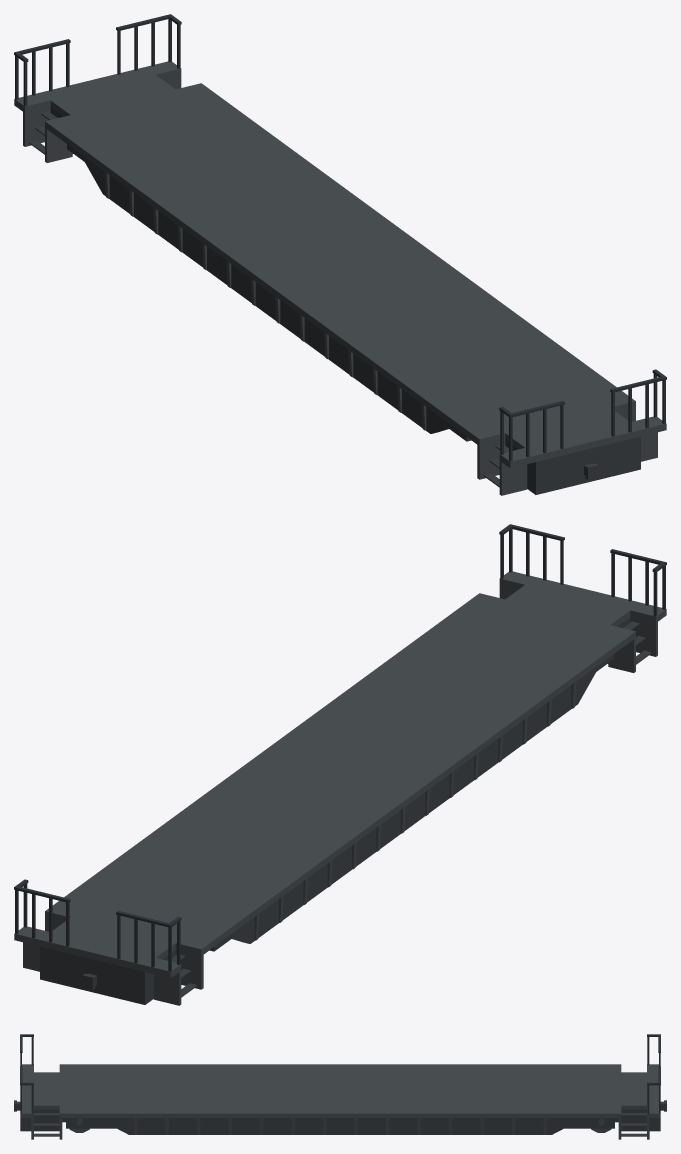
The model's file is Train_03_C2.fbx.
3 views of the same model, one above another, from view 1: azimuth 30°, elevation 25°; view 2: azimuth 150°, elevation 25°; view 3: azimuth 270°, elevation 25° (orthographic). The views are drawn at different scales.
Parts seen in each view (by area): view 1: Train_03_C2; view 2: Train_03_C2; view 3: Train_03_C2.
Part boxes in pixels (x1,y1,x2,y2): Train_03_C2: (14, 14, 666, 495); Train_03_C2: (14, 524, 666, 1005); Train_03_C2: (14, 1034, 666, 1139).
Size of the model in its own units: 351 by 202 by 1958.
